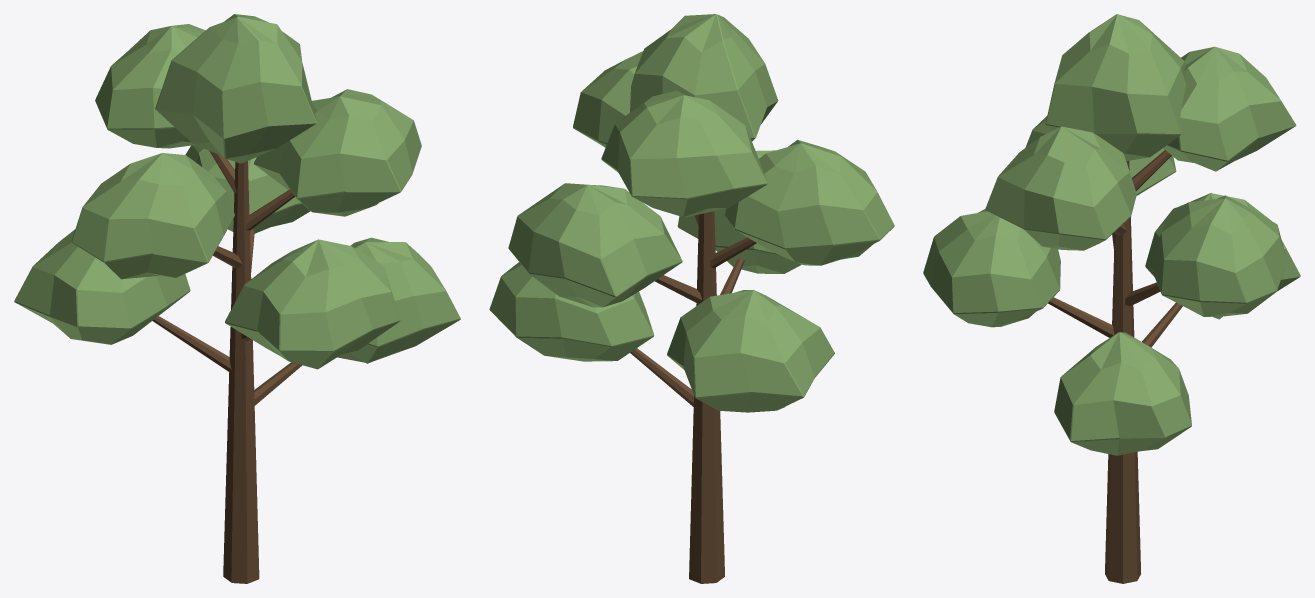
File: b08_ginkgo.glb
3 renders of one model, left to right at view 1: azimuth 30°, elevation 25°; view 2: azimuth 150°, elevation 25°; view 3: azimuth 270°, elevation 25°, orthographic.
Parts seen in each view (by area): view 1: b08_ginkgo; view 2: b08_ginkgo; view 3: b08_ginkgo.
Part boxes in pixels (box(x1,y1,x2,y2)): b08_ginkgo: box(14, 14, 460, 583); b08_ginkgo: box(489, 14, 894, 583); b08_ginkgo: box(923, 14, 1300, 583).
Size of the model in its own units: 3.85 by 5.62 by 3.44.
